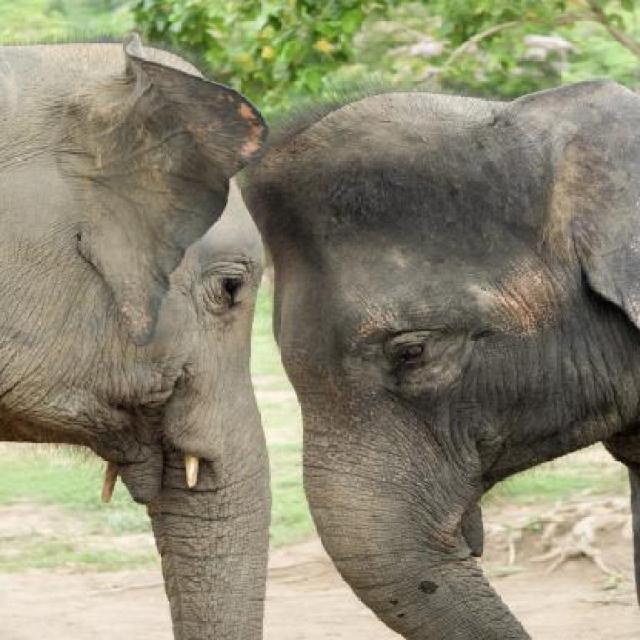Elephant: (257, 71, 638, 638), (5, 26, 293, 640)
